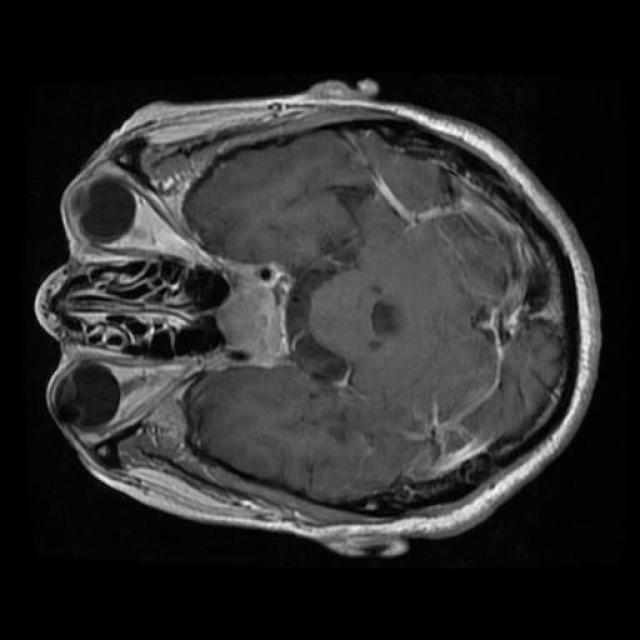Pituitary: (215, 263, 294, 366)
